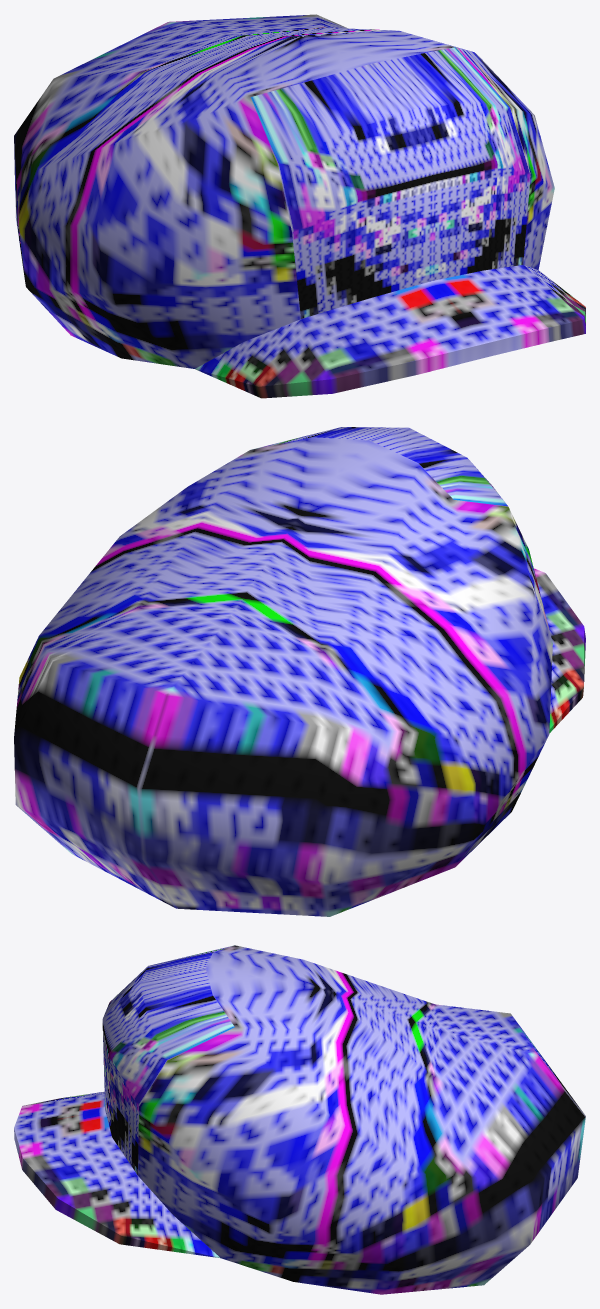
File: hat_mario_model.glb
3 views of the same model, one above another, from view 1: azimuth 30°, elevation 25°; view 2: azimuth 150°, elevation 25°; view 3: azimuth 270°, elevation 25° (orthographic). The views are drawn at different scales.
Parts seen in each view (by area): view 1: hat_mario_model; view 2: hat_mario_model; view 3: hat_mario_model.
Boxes of the visible parts, x1=… form: hat_mario_model: x1=14, y1=14, x2=585, y2=398; hat_mario_model: x1=14, y1=427, x2=585, y2=916; hat_mario_model: x1=14, y1=945, x2=585, y2=1294.
Bounding box in the file's own units: 69.73 × 48.28 × 92.94.
Materials: 1 (1 with a texture image).
